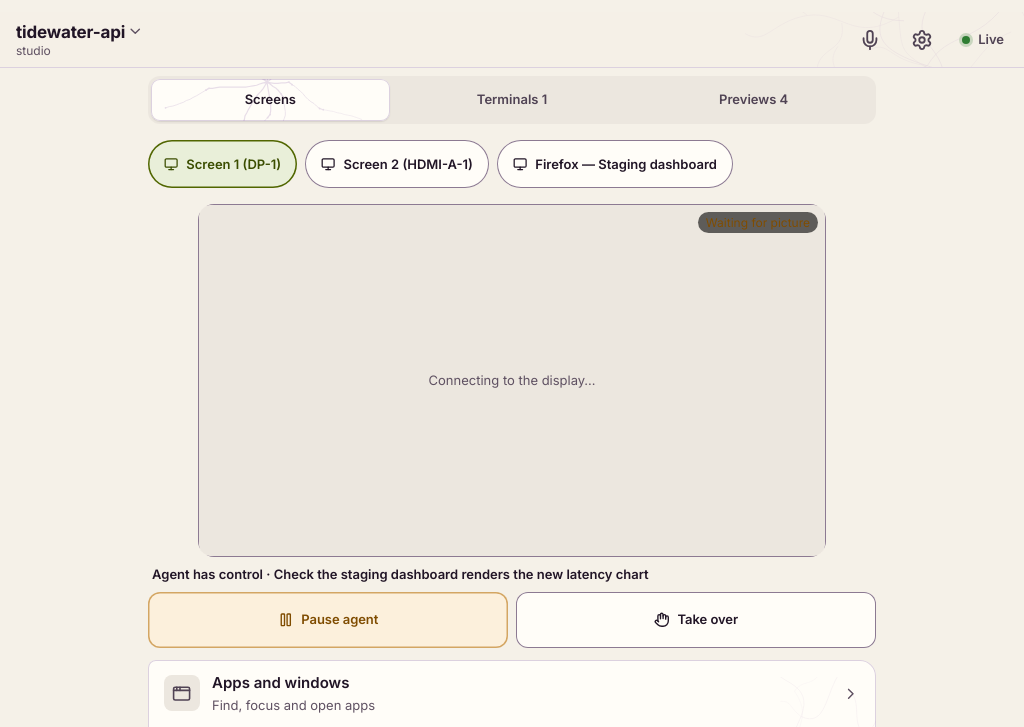
it: shows one kind of thing at a time, counting the chosen project's, and stops watching on another
Click the radio button labelled "Terminals 1" at (512, 100), box [393, 79, 631, 121]
Wait 900 ms
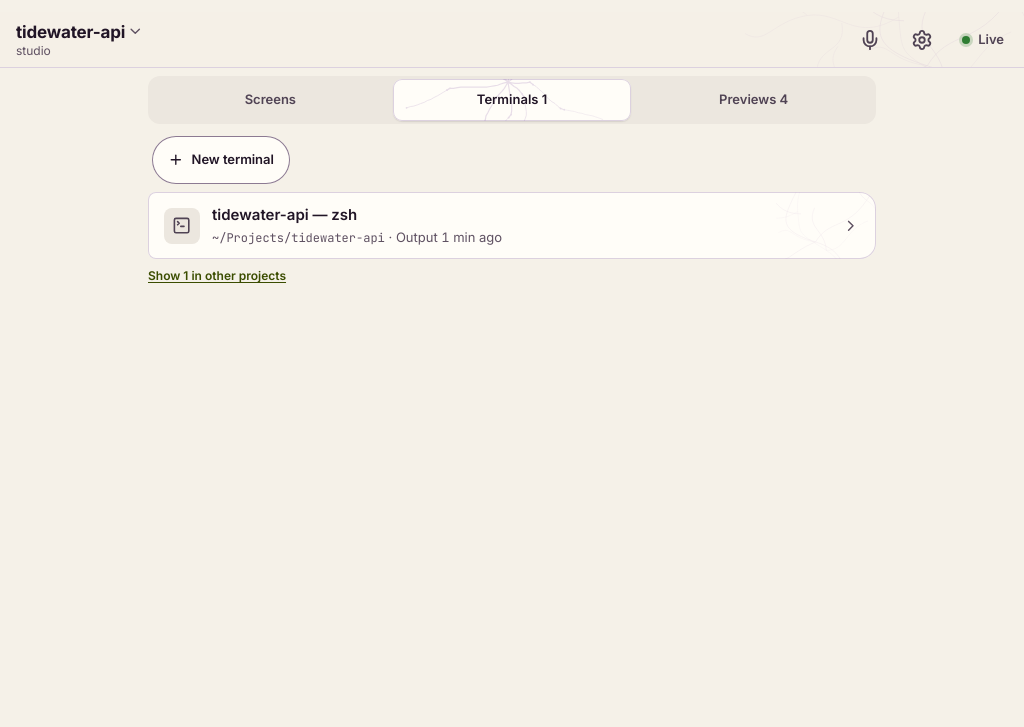
Expected: the element with class "control-live" is gone
Expected: the number of buttons named "Attach tidewater-api — zsh" is 1, [148, 192, 876, 259]
Click the button "Show 1 in other projects" at (217, 276), box [148, 267, 286, 284]
Wait 900 ms
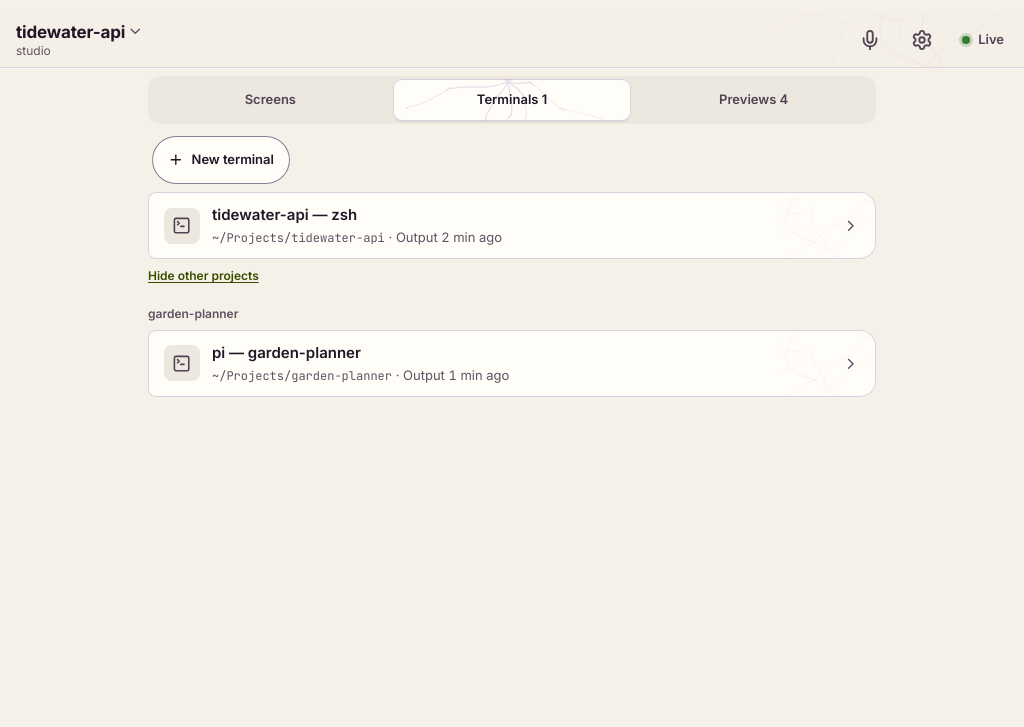
Click the button "Hide other projects" at (203, 276), box [148, 267, 259, 284]
Wait 900 ms
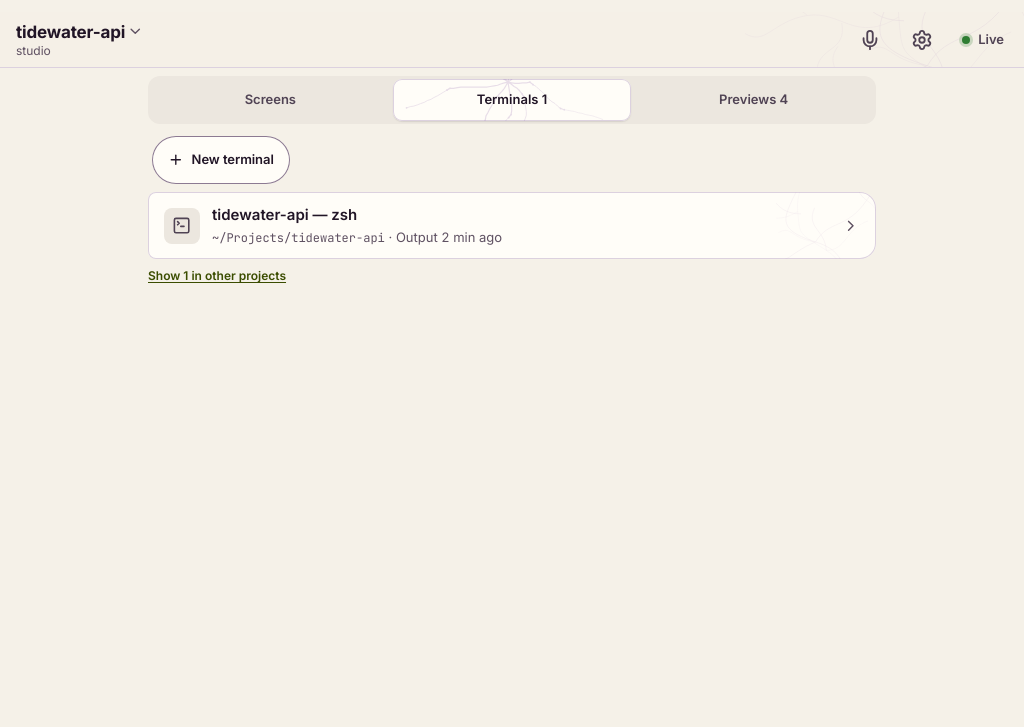
Expected: the heading "garden-planner" is gone
